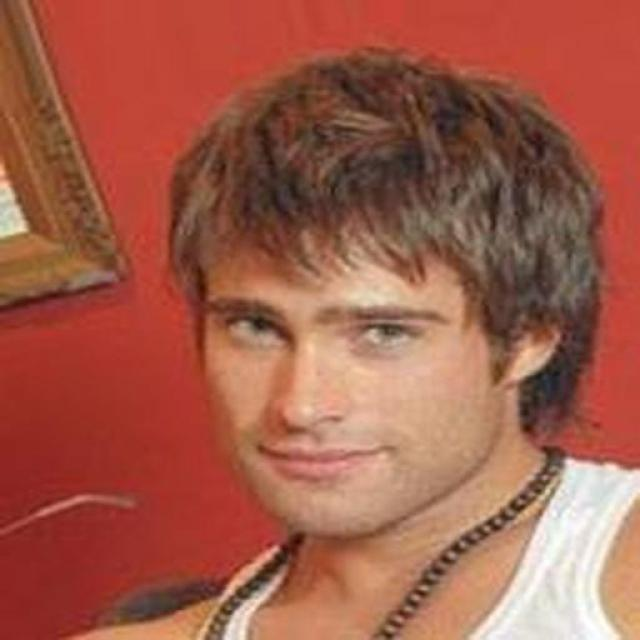bareface: (201, 232, 477, 542)
